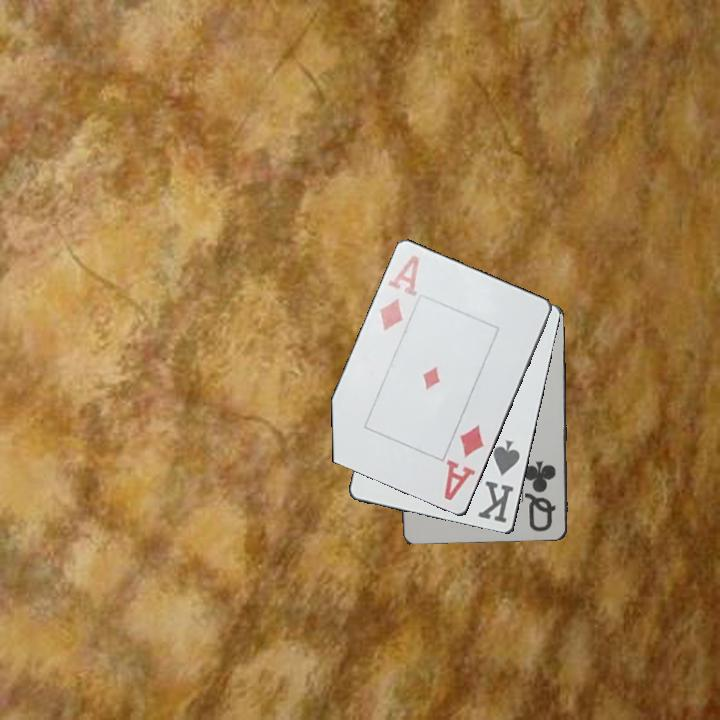Ad: (375, 252, 422, 335), (441, 421, 487, 504)
Ks: (475, 436, 523, 526)
Qc: (525, 457, 559, 535)
